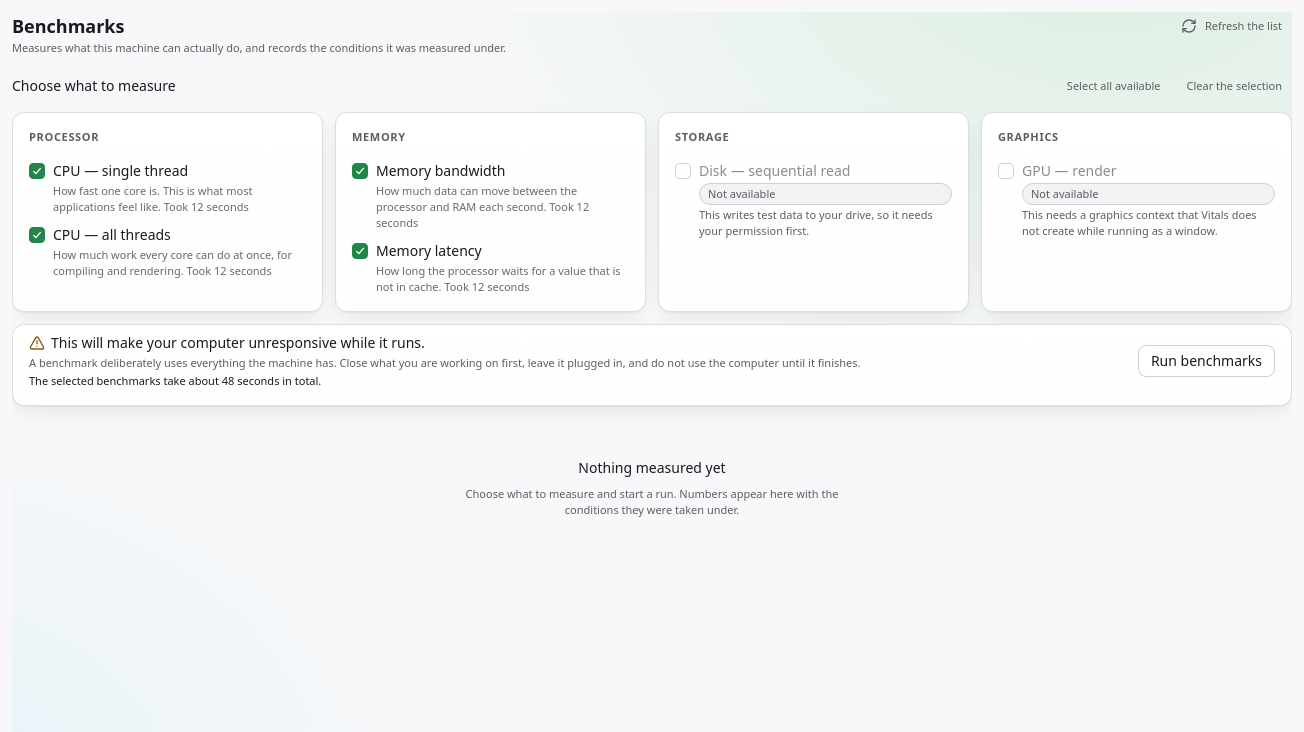
Test: BenchmarksScreen › before starting › refuses to start with nothing selected
The image size is (1304, 732).
Expected: the heading "Benchmarks" is shown, left=12, top=14, right=124, bottom=38
What coordinates should you click on to do the following:
click the button "Clear the selection"
I would click on:
 (1234, 86)
Its box is left=1176, top=72, right=1292, bottom=100.
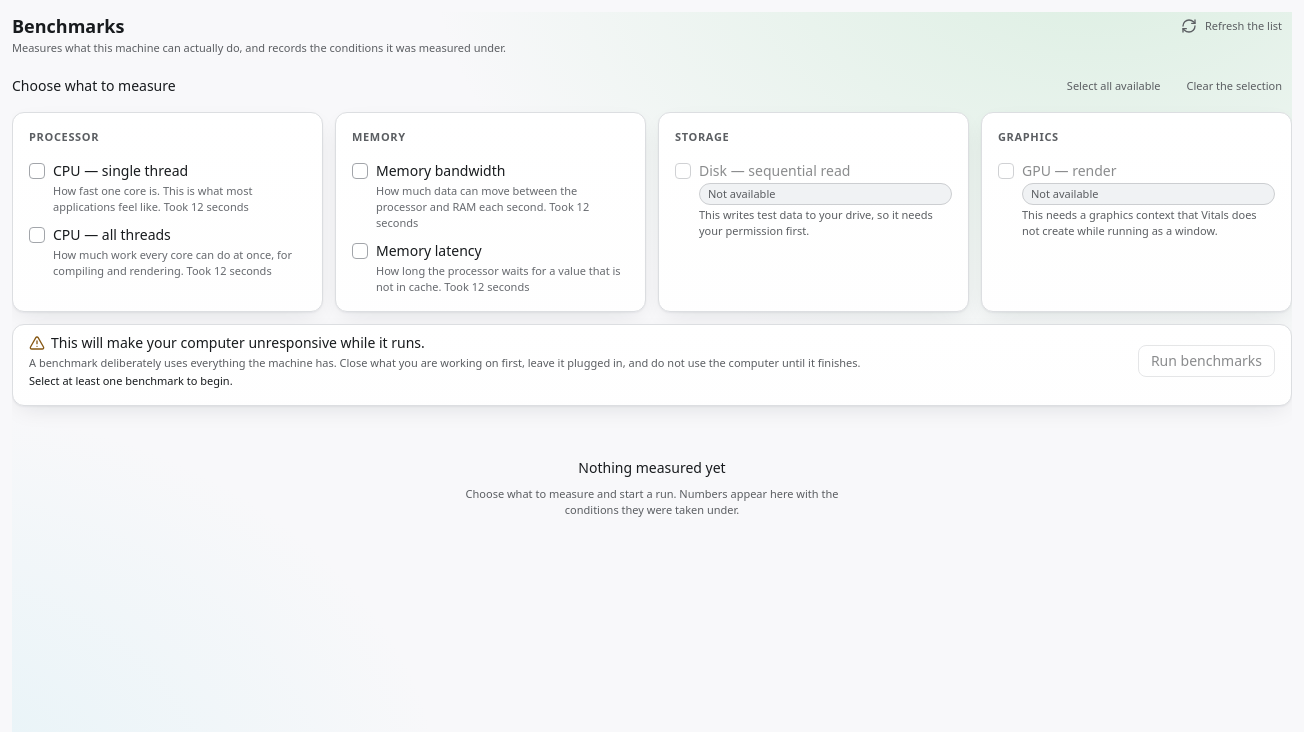
Result: the text "Select at least one benchmark to begin." is shown at left=29, top=373, right=233, bottom=388
Result: the button "Run benchmarks" is disabled at left=1138, top=345, right=1275, bottom=377
